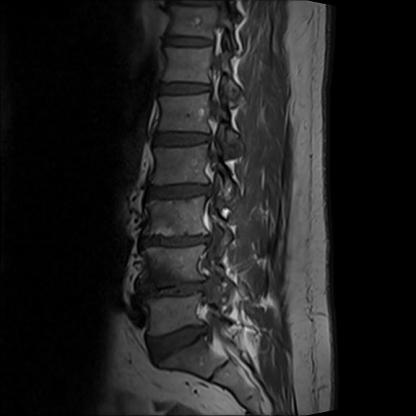Disc Bulgerotation: (143, 319, 227, 364), (138, 227, 218, 258)
